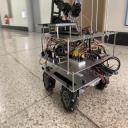cart: (37, 31, 119, 112)
